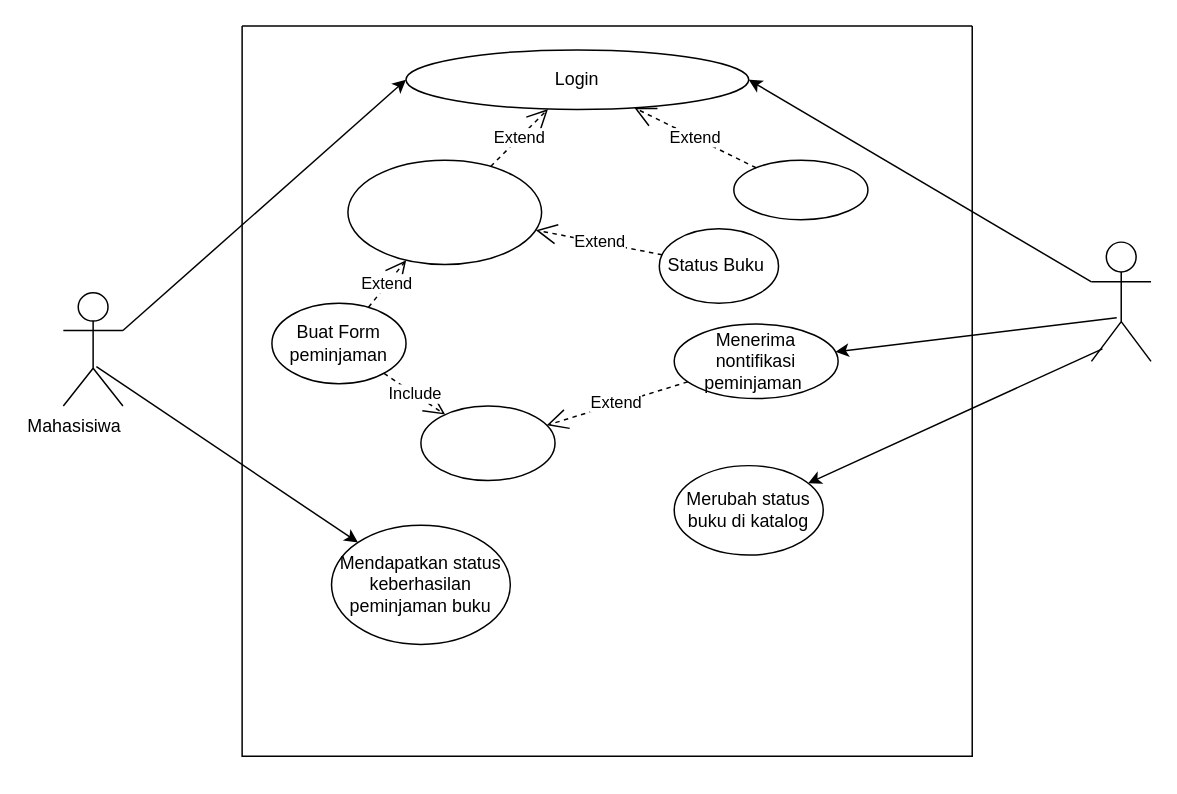
Some shapes in this 1177 by 794 pixel diagram are drawn without their labels. Here are the shapes that lost their labels. From the top down, the centre of each, then its label:
[800,189]: Logout
[444,211]: Mencari ketersedian buku di katalog
[1120,301]: Staff
[487,443]: Simpan form peminjaman
